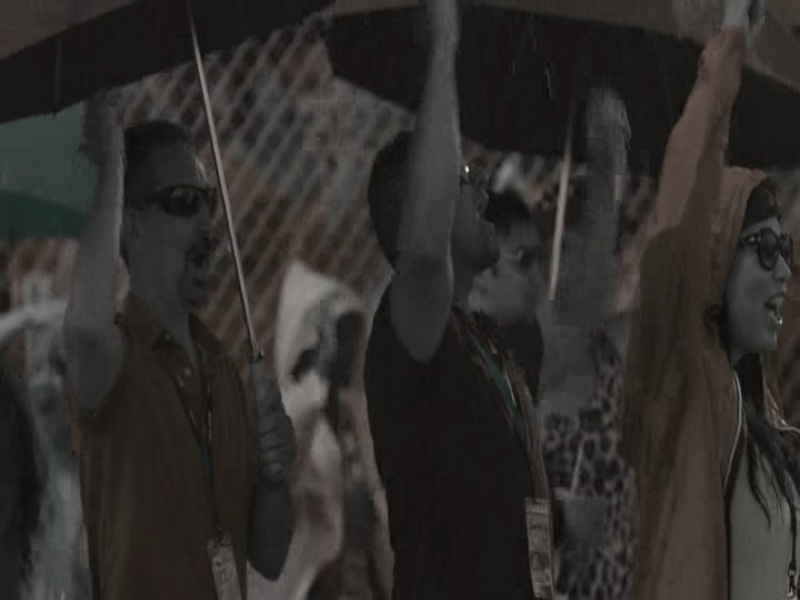TsisyArotava: (116, 122, 238, 324), (416, 116, 517, 278), (722, 166, 799, 375)
